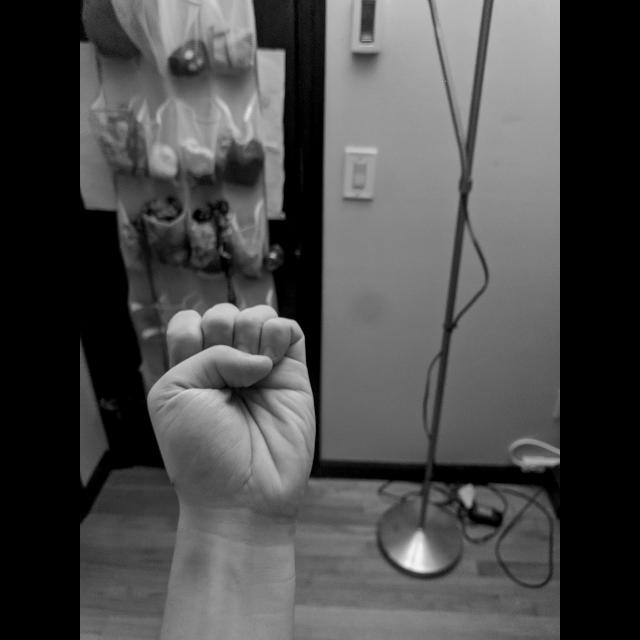E: (141, 299, 321, 533)
